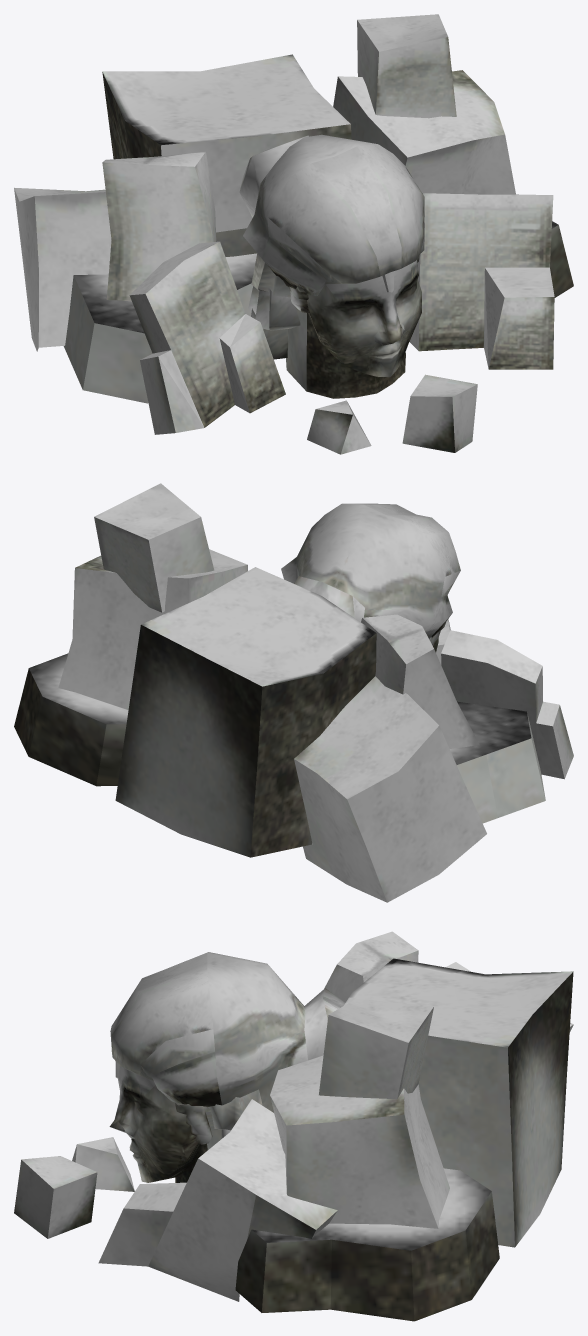
File: ob-bigstatue01.fbx
3 renders of one model, top to bottom at view 1: azimuth 30°, elevation 25°; view 2: azimuth 150°, elevation 25°; view 3: azimuth 270°, elevation 25°, orthographic. The views are drawn at different scales.
Visible parts, largest first — view 1: ob-bigstatue01-01, ob-bigstatue01-02; view 2: ob-bigstatue01-01, ob-bigstatue01-02; view 3: ob-bigstatue01-01, ob-bigstatue01-02.
Boxes of the visible parts, x1,y1,x2,y2 form: ob-bigstatue01-01: [14, 14, 554, 454]; ob-bigstatue01-02: [73, 37, 573, 427]; ob-bigstatue01-01: [58, 483, 573, 902]; ob-bigstatue01-02: [14, 567, 531, 857]; ob-bigstatue01-01: [14, 931, 573, 1301]; ob-bigstatue01-02: [235, 958, 573, 1321].
Size of the model in its own units: 11.2 by 6.4 by 10.85.
